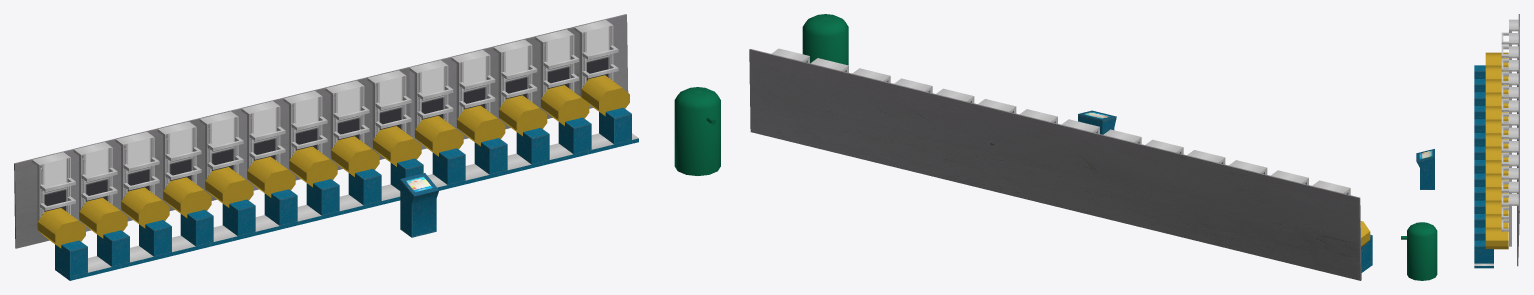
The picture shows the model from 3 angles, left to right: view 1: azimuth 30°, elevation 25°; view 2: azimuth 150°, elevation 25°; view 3: azimuth 270°, elevation 25°; orthographic projection. The views are drawn at different scales.
Parts seen in each view (by area): view 1: 500suojinji; view 2: 500suojinji; view 3: 500suojinji.
Part boxes in pixels (box(x1,y1,x2,y2)): 500suojinji: box(14, 14, 720, 280); 500suojinji: box(749, 14, 1372, 280); 500suojinji: box(1401, 14, 1519, 280).
Size of the model in its own units: 24.92 by 3.69 by 6.17.
Materials: 7 (7 with a texture image).
